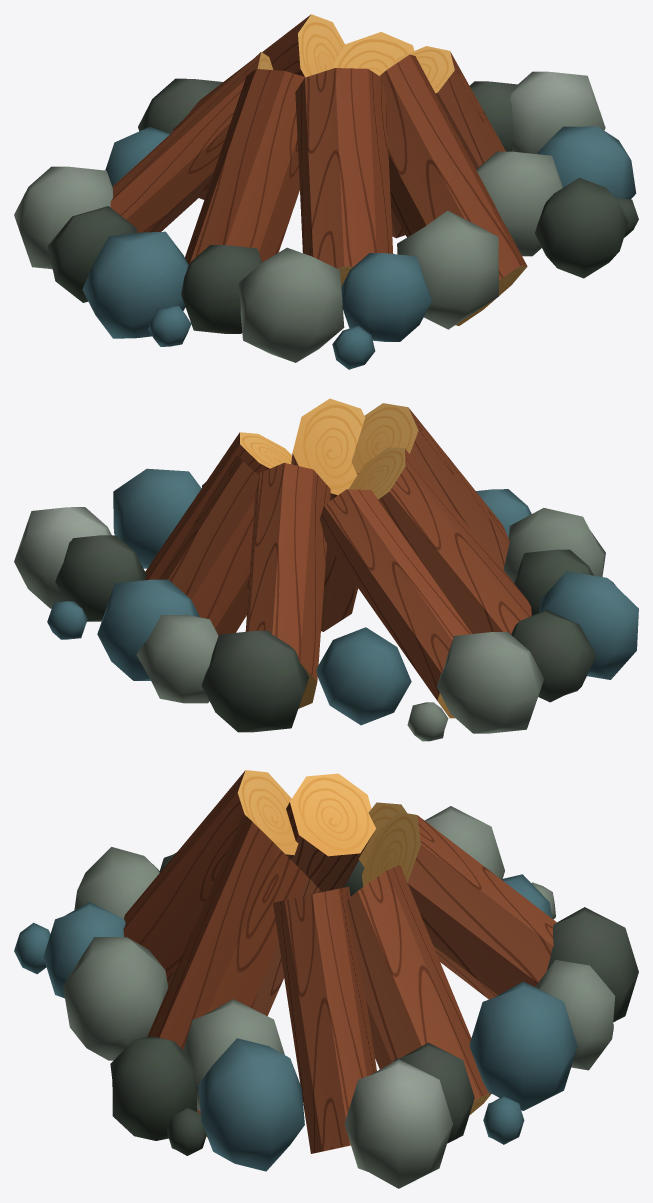
Rendered from Fire.fbx.
3 views of the same model, one above another, from view 1: azimuth 30°, elevation 25°; view 2: azimuth 150°, elevation 25°; view 3: azimuth 270°, elevation 25° (orthographic). The views are drawn at different scales.
Parts seen in each view (by area): view 1: Fire; view 2: Fire; view 3: Fire.
Part boxes in pixels (x1,y1,x2,y2): Fire: [14, 14, 638, 369]; Fire: [14, 398, 638, 741]; Fire: [14, 770, 638, 1188].
Size of the model in its own units: 157 by 71.15 by 132.
1 material, 1 textured.
